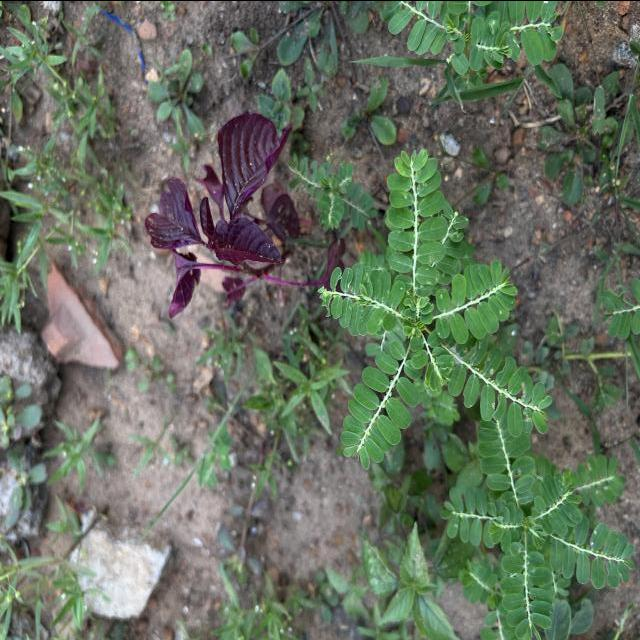Phyllanthus niruri: (430, 335, 554, 435), (338, 338, 422, 472), (383, 146, 450, 296), (433, 258, 519, 346), (317, 261, 406, 336), (547, 521, 637, 590), (476, 414, 535, 508), (500, 539, 554, 640)
